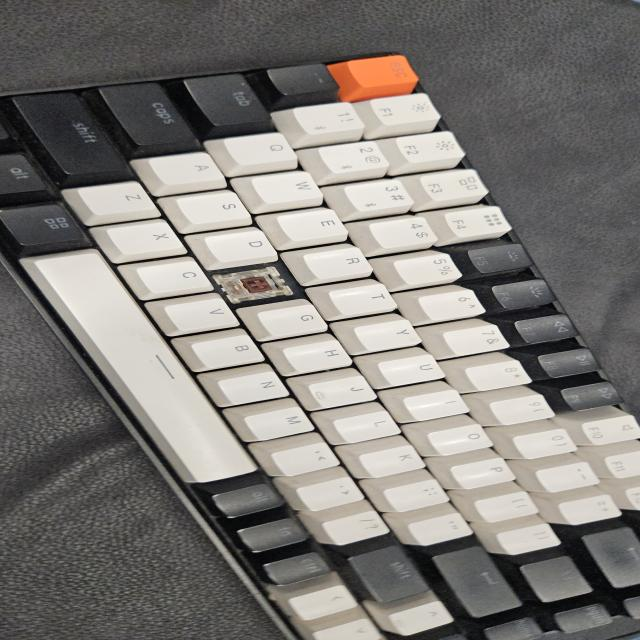C: (227, 270, 292, 293)
